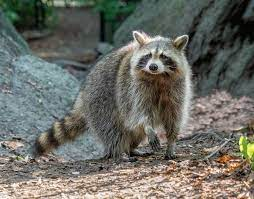raccoon: (34, 31, 191, 157)
